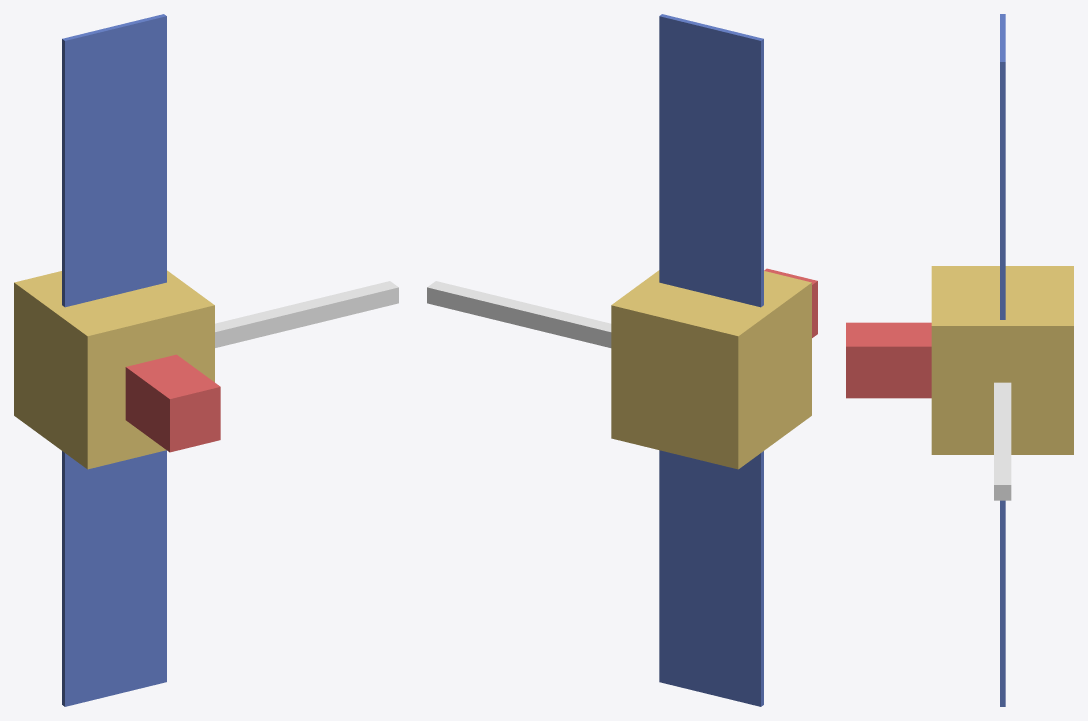
File: spacecraft.gltf
The picture shows the model from 3 angles, left to right: view 1: azimuth 30°, elevation 25°; view 2: azimuth 150°, elevation 25°; view 3: azimuth 270°, elevation 25°; orthographic projection. The views are drawn at different scales.
Parts seen in each view (by area): view 1: wing+Y, bus, wing-Y, instrument+Z, boom+X; view 2: bus, wing+Y, wing-Y, boom+X; view 3: bus, instrument+Z, boom+X, wing+Y, wing-Y.
Part boxes in pixels (x1,y1,x2,y2): wing+Y: [62, 14, 166, 307]; bus: [14, 270, 214, 469]; wing-Y: [62, 450, 166, 706]; instrument+Z: [125, 354, 220, 452]; boom+X: [215, 281, 398, 347]; bus: [611, 270, 811, 469]; wing+Y: [659, 14, 763, 307]; wing-Y: [659, 450, 763, 706]; boom+X: [427, 281, 611, 347]; bus: [931, 266, 1073, 454]; instrument+Z: [846, 322, 931, 398]; boom+X: [994, 382, 1011, 500]; wing+Y: [1000, 14, 1005, 319]; wing-Y: [1000, 500, 1005, 706].
Bounding box in the file's own units: 2.7 × 5 × 1.6.
